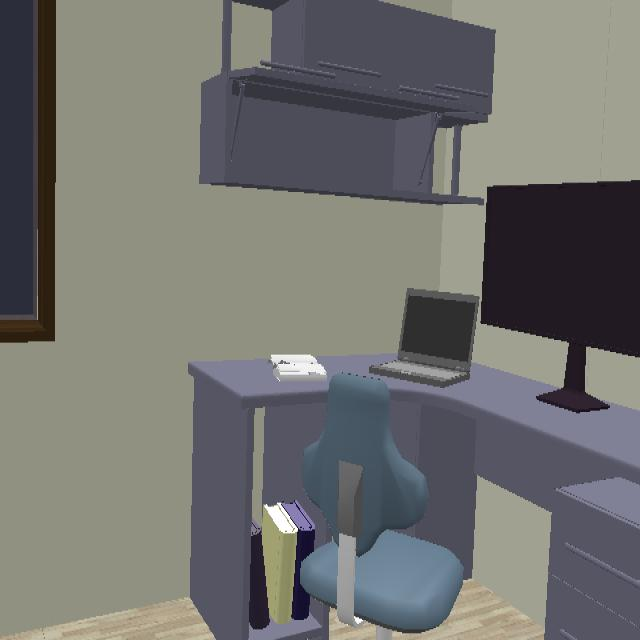book: (249, 500, 315, 631)
bookshelf: (201, 0, 496, 205), (192, 380, 329, 640)
cabinet: (534, 468, 640, 640)
chair: (301, 375, 463, 640)
laptop: (369, 288, 480, 389)
monitor: (480, 180, 640, 415)
table: (453, 364, 640, 467), (198, 360, 328, 407), (320, 355, 394, 377)
